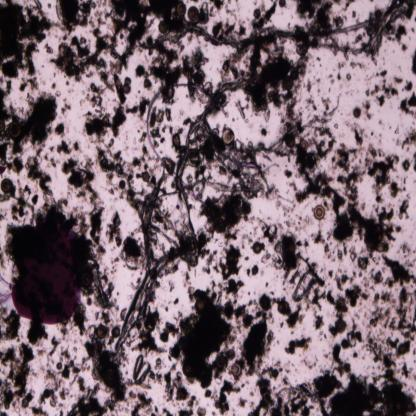Background material: (253, 210, 368, 332), (0, 193, 116, 312), (166, 277, 243, 389), (207, 42, 313, 120), (56, 1, 133, 106), (0, 78, 59, 197), (1, 203, 108, 267), (365, 251, 416, 374), (36, 331, 107, 414), (268, 92, 338, 156), (0, 1, 56, 77), (328, 197, 395, 257), (334, 144, 409, 197), (131, 35, 207, 84), (79, 336, 130, 405), (333, 372, 416, 414), (291, 148, 345, 212), (252, 374, 338, 414), (196, 191, 254, 245), (57, 139, 102, 208), (203, 240, 258, 296), (242, 294, 277, 379), (361, 61, 416, 115), (104, 209, 147, 270), (0, 342, 35, 414), (150, 356, 196, 407), (96, 143, 137, 200), (328, 316, 363, 378), (151, 105, 187, 159), (111, 0, 153, 46), (82, 103, 127, 138), (5, 192, 53, 222), (126, 392, 173, 414), (256, 210, 284, 246), (210, 17, 245, 44), (26, 316, 51, 348), (284, 333, 314, 356), (0, 310, 22, 340), (394, 121, 416, 148), (346, 121, 370, 145), (134, 357, 152, 388), (326, 54, 342, 86), (286, 308, 307, 327), (20, 77, 40, 95), (396, 198, 411, 222), (244, 262, 260, 276), (300, 353, 315, 367), (55, 121, 66, 138), (410, 45, 416, 76), (344, 70, 354, 88), (59, 102, 71, 116), (350, 58, 360, 73)
Cellulose filter fibre: (113, 187, 192, 357), (156, 2, 416, 46)
Diatom: (221, 128, 236, 146), (186, 5, 200, 21), (282, 74, 293, 92), (314, 204, 326, 220), (230, 362, 242, 378), (0, 178, 12, 194), (334, 318, 346, 333), (176, 0, 186, 17), (278, 300, 288, 315), (96, 325, 108, 337), (193, 300, 205, 311), (298, 139, 308, 152), (286, 135, 296, 148), (252, 240, 262, 252), (158, 20, 168, 32), (196, 405, 206, 415), (120, 308, 127, 322), (110, 327, 120, 336), (354, 107, 361, 118), (124, 86, 132, 94)
Microfibre: (147, 83, 260, 206)
Pen: (2, 254, 84, 330)
